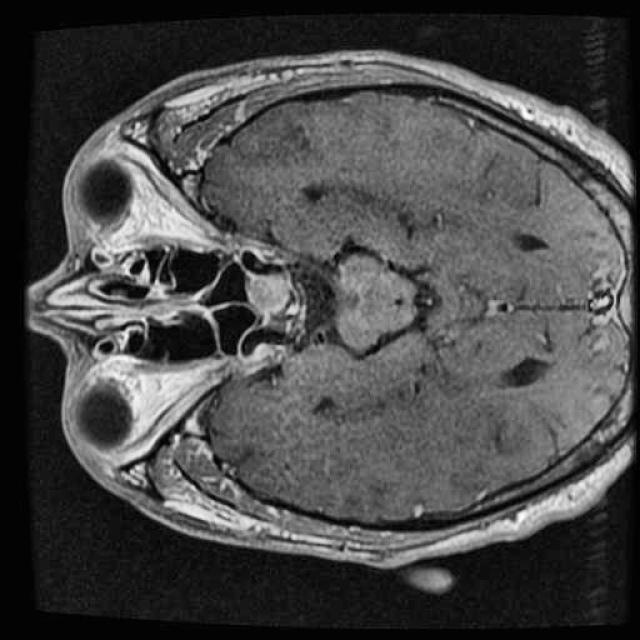Tumor: (239, 250, 300, 338)
